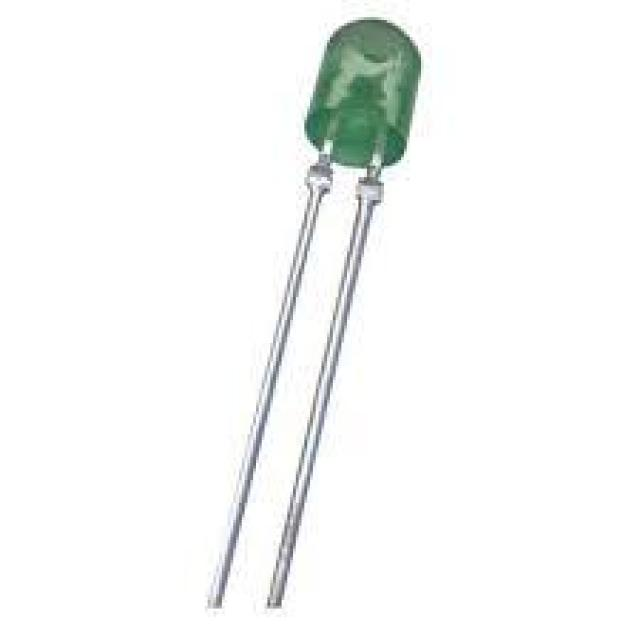Led: (209, 20, 421, 607)
